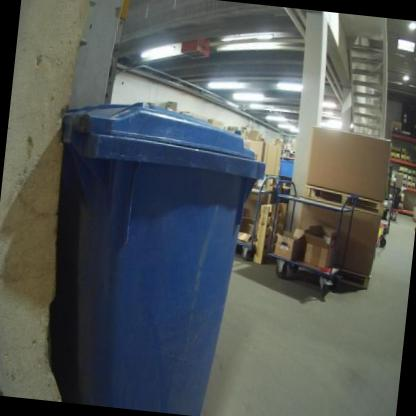pallet: (300, 183, 385, 217), (252, 201, 283, 266), (333, 269, 371, 290), (397, 169, 407, 174), (391, 149, 400, 154), (400, 157, 409, 162), (400, 152, 410, 156), (390, 155, 400, 159), (408, 172, 416, 177), (406, 179, 416, 183), (406, 184, 414, 188), (390, 174, 397, 178), (398, 177, 406, 180)
small_load_carrier: (279, 157, 294, 178)
